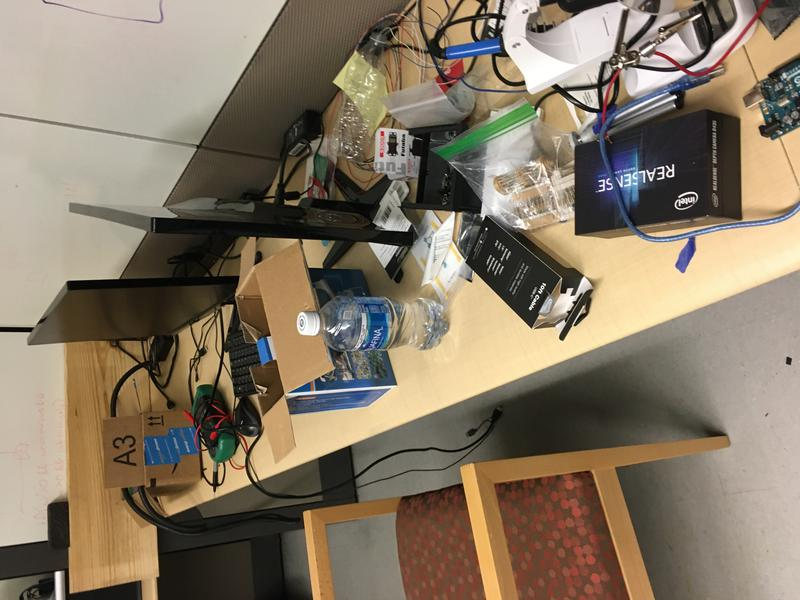bottle: (297, 295, 451, 352)
